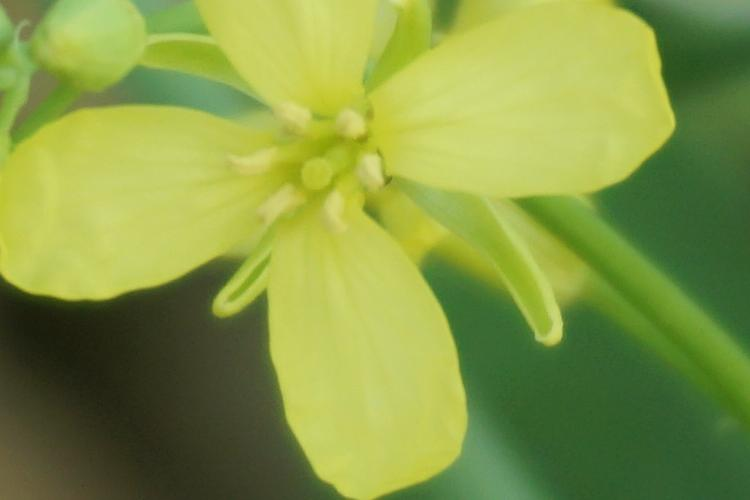bud: (28, 10, 154, 90)
yellow: (4, 1, 689, 484)
